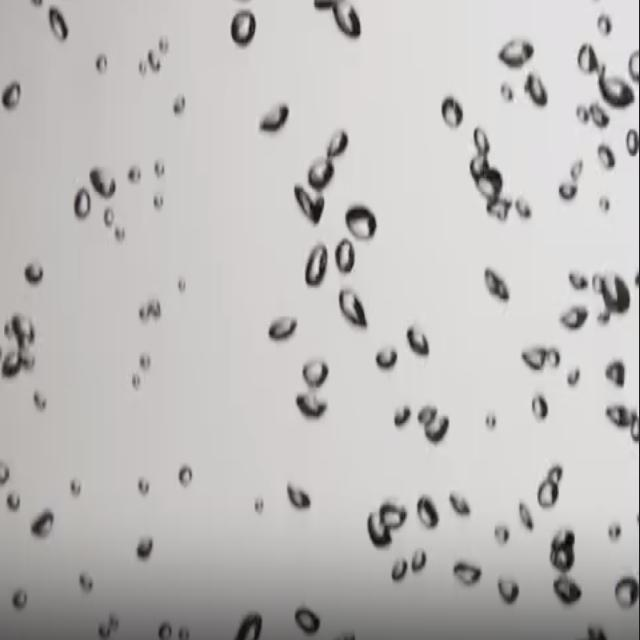bubble: (469, 125, 512, 221), (314, 3, 364, 40), (602, 398, 640, 444), (597, 68, 635, 108), (290, 179, 316, 229), (338, 286, 368, 328), (603, 269, 630, 315), (44, 11, 72, 55), (258, 95, 288, 136), (498, 35, 534, 68), (294, 182, 322, 224), (344, 204, 376, 240), (305, 238, 328, 288), (538, 464, 564, 508), (550, 529, 576, 570), (521, 343, 559, 371), (88, 163, 116, 200), (419, 408, 448, 442), (378, 493, 407, 527), (364, 514, 392, 549), (476, 169, 502, 205), (296, 390, 328, 419), (578, 100, 610, 129), (309, 157, 334, 193), (267, 316, 298, 344), (553, 573, 581, 604), (524, 71, 547, 108), (302, 356, 328, 388), (232, 11, 255, 47), (484, 266, 508, 300), (416, 494, 439, 529), (615, 575, 639, 608), (234, 610, 262, 638), (334, 239, 356, 274), (294, 605, 320, 634), (48, 5, 68, 42), (406, 324, 429, 356), (453, 559, 481, 585), (440, 96, 462, 129), (559, 304, 588, 329), (4, 80, 21, 122), (13, 311, 34, 345), (74, 184, 90, 228), (577, 42, 598, 75), (171, 86, 189, 124), (30, 510, 54, 538), (286, 482, 310, 509), (1, 80, 22, 110), (498, 576, 520, 604), (327, 131, 349, 158), (606, 358, 624, 391), (472, 125, 490, 157), (136, 300, 162, 322), (520, 348, 546, 370), (153, 30, 173, 58), (544, 342, 562, 372), (624, 49, 640, 82), (24, 261, 45, 286), (449, 491, 470, 516), (313, 194, 327, 230), (375, 344, 396, 368), (518, 502, 534, 532), (531, 392, 548, 420), (598, 143, 616, 169), (3, 353, 20, 380), (146, 46, 160, 78), (558, 179, 578, 201), (568, 269, 588, 290), (586, 620, 607, 640), (391, 556, 408, 580), (393, 404, 411, 426), (34, 388, 48, 415), (95, 50, 108, 79), (515, 196, 531, 219), (597, 13, 612, 37), (494, 523, 510, 545), (570, 155, 583, 181), (626, 128, 638, 156), (178, 464, 193, 486), (7, 491, 21, 514), (412, 548, 426, 571), (138, 539, 154, 559), (137, 350, 152, 371), (156, 158, 168, 184), (128, 368, 140, 394), (136, 64, 147, 92), (129, 160, 140, 188), (115, 220, 126, 248), (500, 81, 514, 103), (20, 349, 36, 368), (11, 590, 27, 609), (592, 273, 604, 298), (148, 49, 161, 72), (595, 309, 611, 327), (152, 192, 165, 214), (103, 204, 114, 230), (172, 92, 185, 114), (127, 164, 141, 184), (79, 570, 93, 590), (567, 367, 580, 388), (0, 455, 9, 485), (157, 623, 172, 640), (608, 522, 621, 540), (106, 613, 120, 629), (177, 273, 187, 295), (154, 158, 165, 178), (153, 191, 164, 210), (70, 477, 81, 496), (3, 318, 12, 341), (598, 195, 610, 212), (114, 224, 125, 242), (3, 320, 14, 338), (138, 476, 149, 494), (98, 624, 110, 640), (159, 35, 169, 54), (336, 630, 355, 640), (486, 411, 496, 429), (254, 496, 264, 513), (138, 58, 147, 76), (179, 626, 190, 640), (132, 372, 140, 390), (634, 268, 640, 286), (634, 511, 640, 527)
